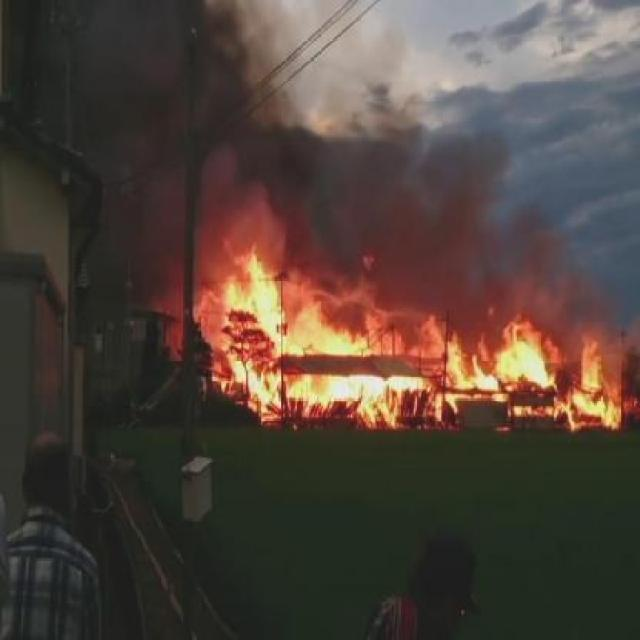Fire: (174, 194, 640, 451)
Smoke: (20, 0, 640, 352)
